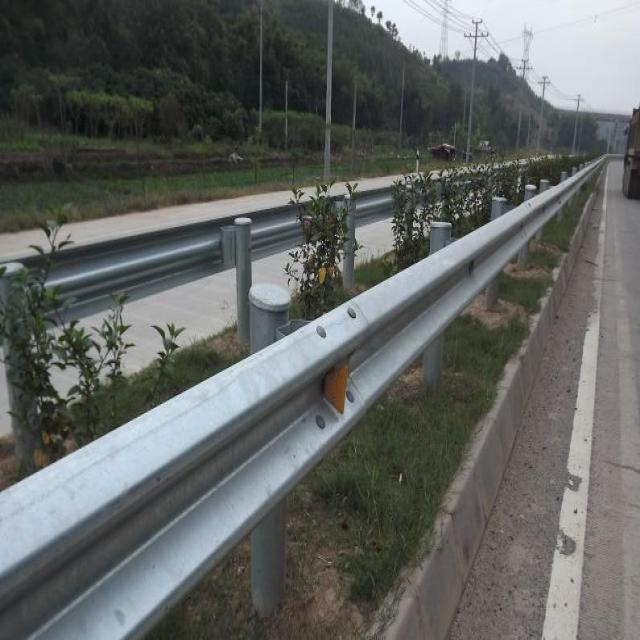Guard rail: (0, 160, 604, 638), (49, 207, 235, 320), (248, 205, 301, 258), (358, 188, 394, 224)
